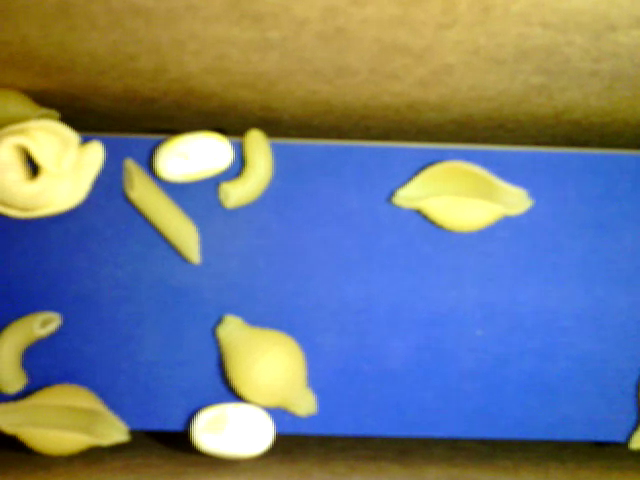elbow: (1, 310, 62, 395), (220, 126, 273, 208)
penne: (117, 156, 201, 266), (1, 88, 60, 134)
shell: (212, 315, 317, 419), (386, 162, 537, 234), (1, 379, 131, 456)
tortellini: (1, 117, 106, 218)
